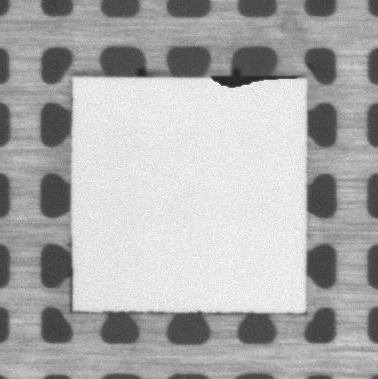DIE_BROKEN: (208, 71, 306, 90)
